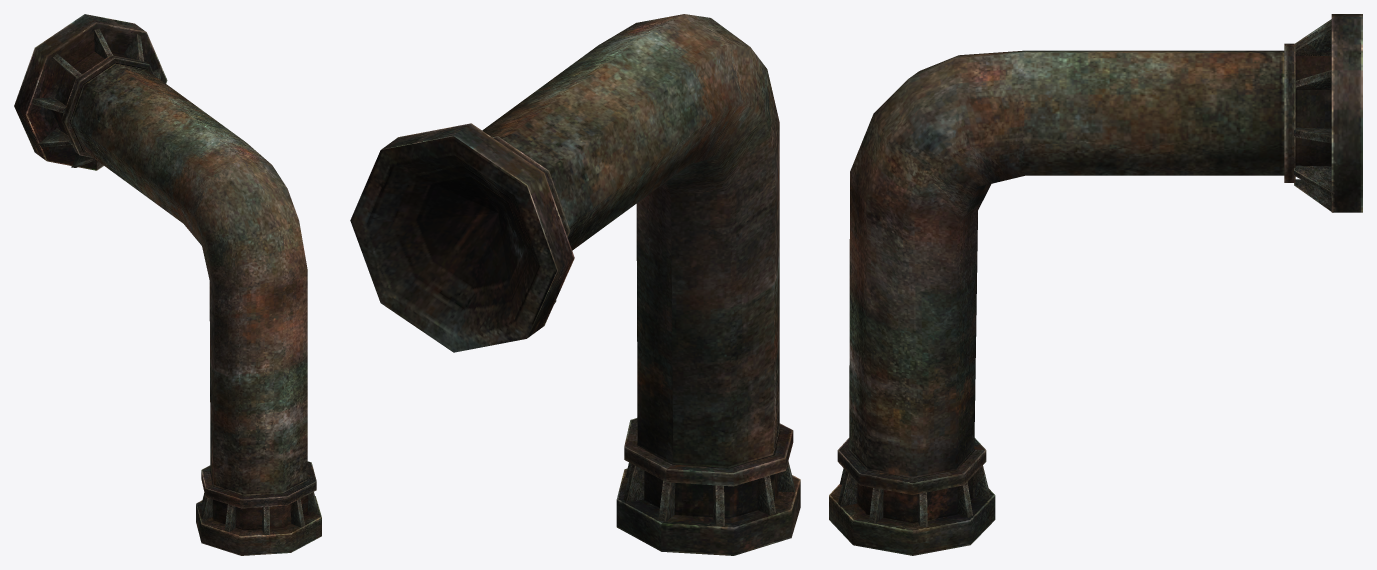
Rendered from pipe_large2_90_pplant.dae.
3 views of the same model, side by side, from view 1: azimuth 30°, elevation 25°; view 2: azimuth 150°, elevation 25°; view 3: azimuth 270°, elevation 25° (orthographic). The views are drawn at different scales.
Parts seen in each view (by area): view 1: pipe_large2_90_pplant; view 2: pipe_large2_90_pplant; view 3: pipe_large2_90_pplant.
Boxes of the visible parts, <box> form: pipe_large2_90_pplant: <box>14,14,321,555</box>; pipe_large2_90_pplant: <box>350,14,800,555</box>; pipe_large2_90_pplant: <box>829,14,1362,555</box>.
Size of the model in its own units: 0.4703 by 1.23 by 1.19.
